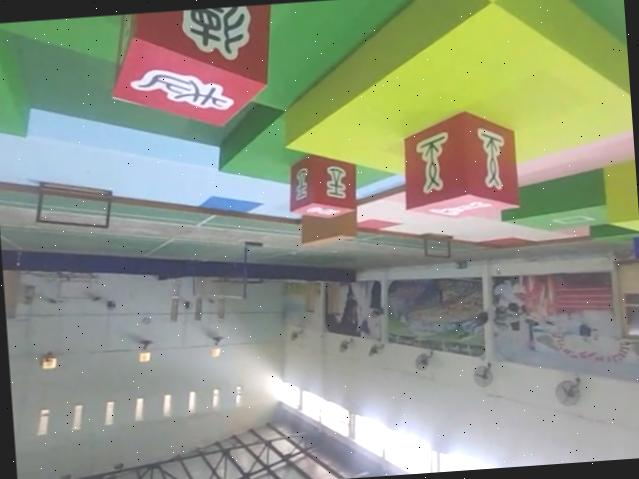R2 Fake: (103, 2, 288, 136)
R2 Real: (394, 103, 521, 222), (281, 148, 361, 222)
